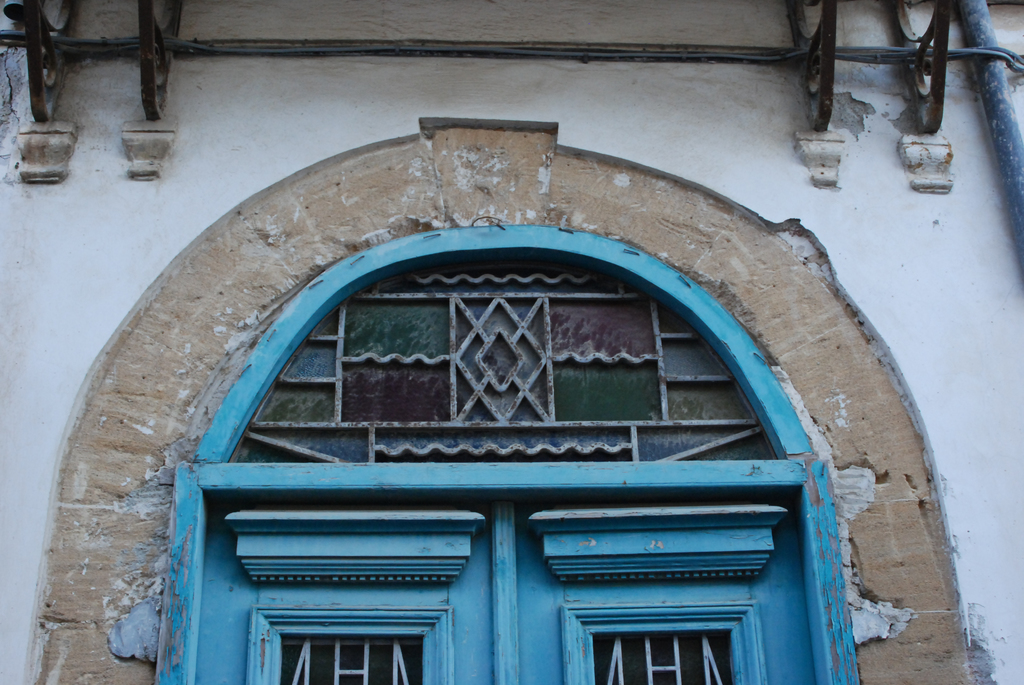door: (206, 511, 495, 685), (524, 508, 787, 685)
